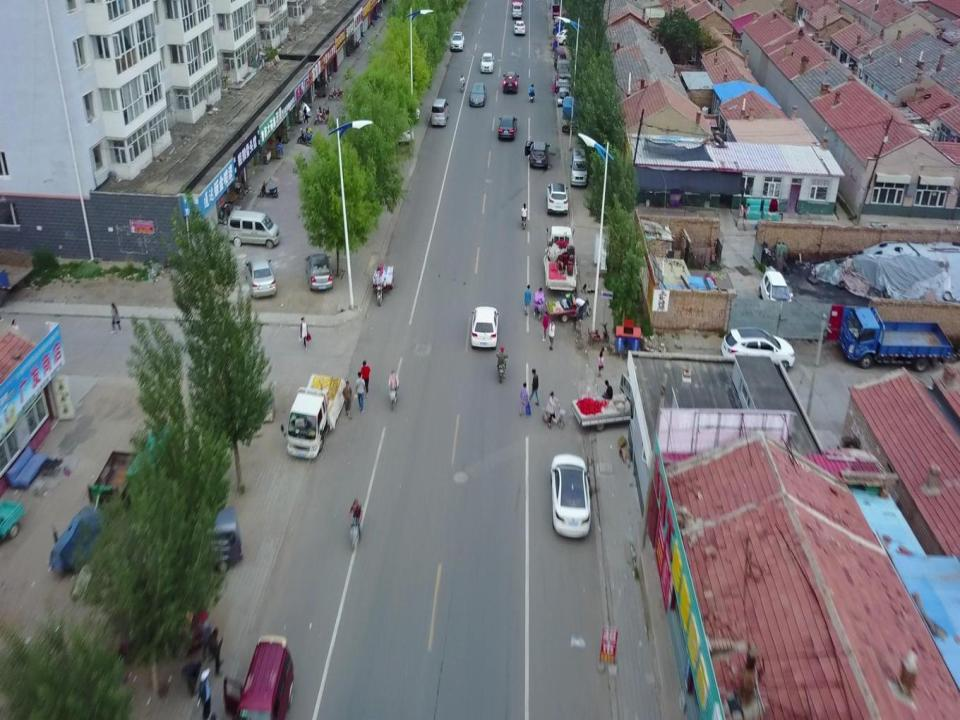car: (550, 454, 591, 538), (720, 326, 795, 370), (758, 270, 793, 319), (243, 256, 276, 296), (471, 307, 499, 349), (304, 252, 333, 291), (524, 140, 550, 168), (545, 183, 568, 214), (498, 116, 518, 139), (556, 28, 580, 46), (468, 82, 486, 105), (502, 72, 518, 92), (556, 87, 571, 107), (450, 31, 464, 51), (480, 52, 493, 72), (514, 20, 526, 35)
truck: (840, 304, 952, 372), (280, 373, 344, 459), (571, 370, 649, 430), (543, 225, 577, 293), (561, 96, 580, 133), (556, 61, 573, 90), (552, 3, 560, 19)
van: (223, 634, 294, 720), (172, 506, 243, 574), (225, 209, 280, 248), (570, 149, 588, 187), (431, 98, 449, 124), (553, 46, 567, 72), (511, 2, 522, 19)
